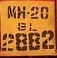character: (41, 29, 55, 50), (1, 32, 14, 52), (28, 31, 41, 50), (15, 32, 27, 51), (17, 5, 26, 19), (40, 5, 49, 19), (7, 5, 16, 18), (30, 6, 39, 19), (17, 21, 27, 31), (28, 22, 38, 32)
